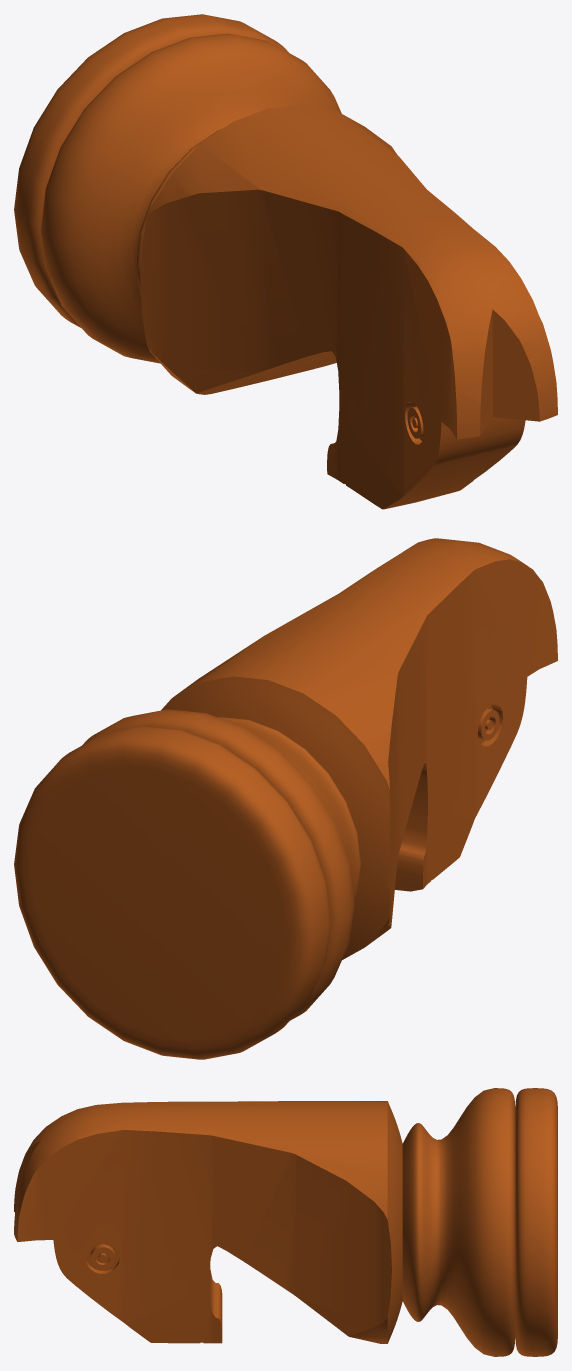
File: knight.obj
3 views of the same model, one above another, from view 1: azimuth 30°, elevation 25°; view 2: azimuth 150°, elevation 25°; view 3: azimuth 270°, elevation 25° (orthographic). The views are drawn at different scales.
Parts seen in each view (by area): view 1: kon_02; view 2: kon_02; view 3: kon_02.
Boxes of the visible parts, x1,y1,x2,y2 form: kon_02: (14, 14, 557, 509); kon_02: (14, 538, 557, 1059); kon_02: (14, 1088, 557, 1356).
Size of the model in its own units: 32.44 by 32.44 by 65.41.
